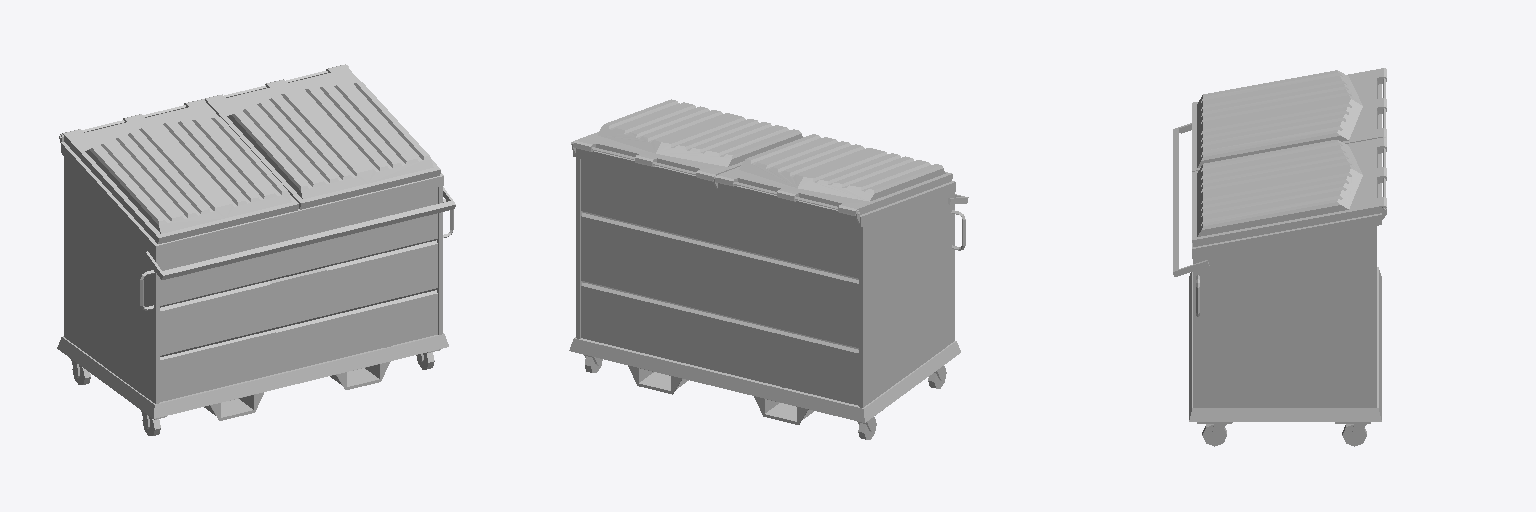
File: prop_dumpster_02a.obj
3 views of the same model, side by side, from view 1: azimuth 30°, elevation 25°; view 2: azimuth 150°, elevation 25°; view 3: azimuth 270°, elevation 25° (orthographic).
Bounding box in the file's own units: 1.96 × 1.47 × 1.17.